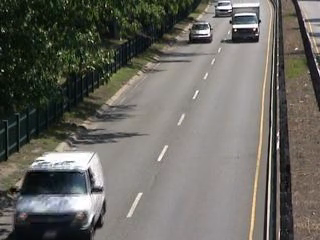car: (188, 22, 215, 46), (214, 1, 232, 18)
truck: (12, 152, 110, 240), (231, 2, 262, 46)
